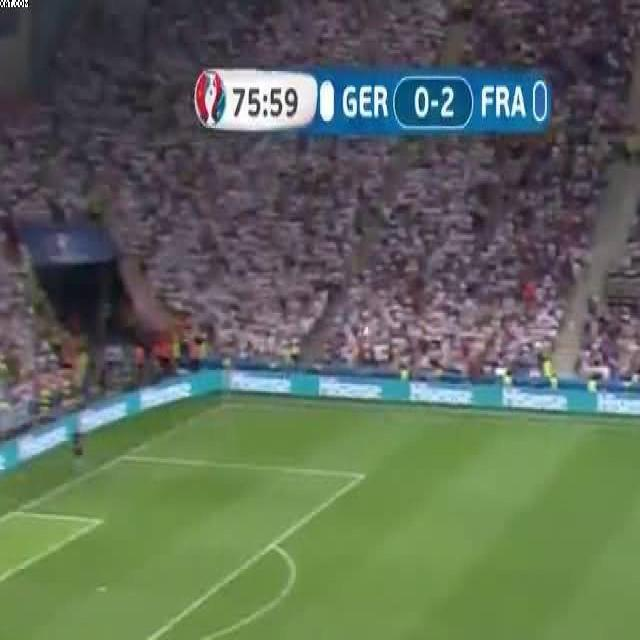player-white: (72, 423, 82, 477)
